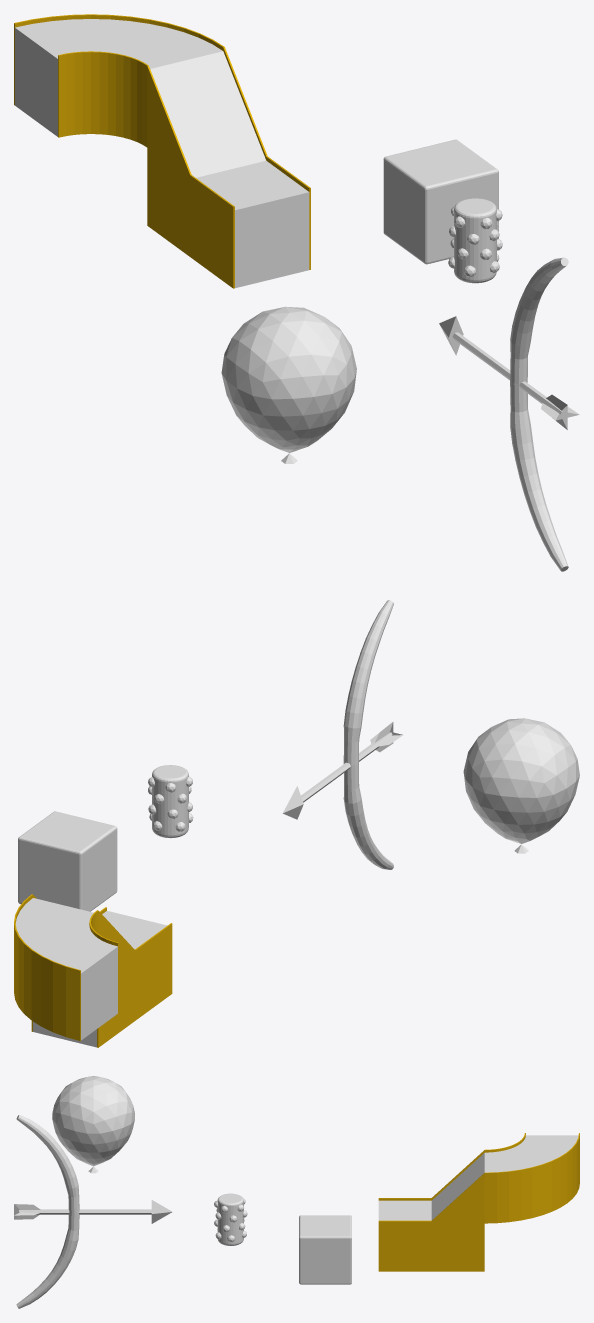
The model's file is parkour.fbx.
The picture shows the model from 3 angles, top to bottom: view 1: azimuth 30°, elevation 25°; view 2: azimuth 150°, elevation 25°; view 3: azimuth 270°, elevation 25°; orthographic projection. The views are drawn at different scales.
Parts seen in each view (by area): view 1: Road.Turn, Balloon, Road.Straight, Road.Ramp, Cube, Cylinder, Road.Base, Obstacle, Arrow, Spikes; view 2: Road.Turn, Balloon, Cube, Cylinder, Road.Straight, Road.Base, Obstacle, Arrow, Spikes, Road.Ramp; view 3: Road.Turn, Balloon, Road.Straight, Cube, Road.Ramp, Road.Base, Cylinder, Arrow, Obstacle, Spikes.
Boxes of the visible parts, x1,y1,x2,y2 form: Road.Turn: (14, 14, 224, 147); Balloon: (221, 306, 356, 463); Road.Straight: (190, 156, 310, 288); Road.Ramp: (147, 47, 267, 178); Cube: (383, 139, 498, 264); Cylinder: (510, 257, 568, 571); Road.Base: (147, 148, 190, 256); Obstacle: (454, 198, 496, 283); Arrow: (439, 316, 579, 429); Spikes: (448, 205, 502, 277); Road.Turn: (14, 894, 118, 1040); Balloon: (463, 718, 579, 853); Cube: (18, 811, 117, 911); Cylinder: (343, 600, 393, 869); Road.Straight: (99, 907, 172, 1020); Road.Base: (31, 954, 135, 1047); Obstacle: (152, 765, 188, 838); Arrow: (282, 722, 403, 819); Spikes: (148, 776, 193, 831); Road.Ramp: (33, 895, 135, 965); Road.Turn: (484, 1133, 579, 1223); Balloon: (52, 1076, 134, 1173); Road.Straight: (378, 1198, 431, 1271); Cube: (299, 1215, 351, 1284); Road.Ramp: (431, 1150, 484, 1223); Road.Base: (431, 1223, 484, 1271); Cylinder: (16, 1115, 79, 1308); Arrow: (14, 1200, 172, 1223); Obstacle: (217, 1193, 243, 1245); Spikes: (214, 1198, 247, 1242).
Size of the model in its own units: 583 by 402 by 1066.
